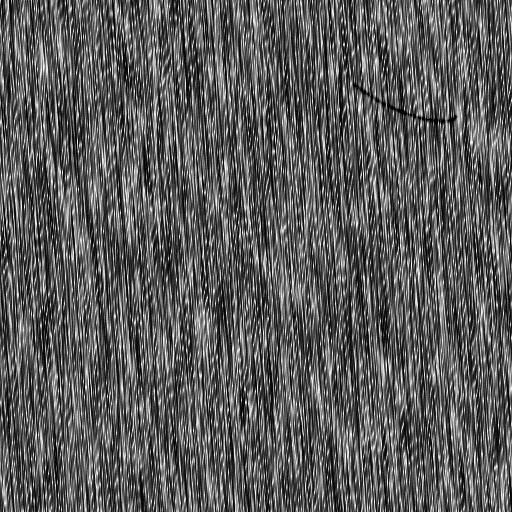DefectTypeC: (352, 78, 457, 125)
